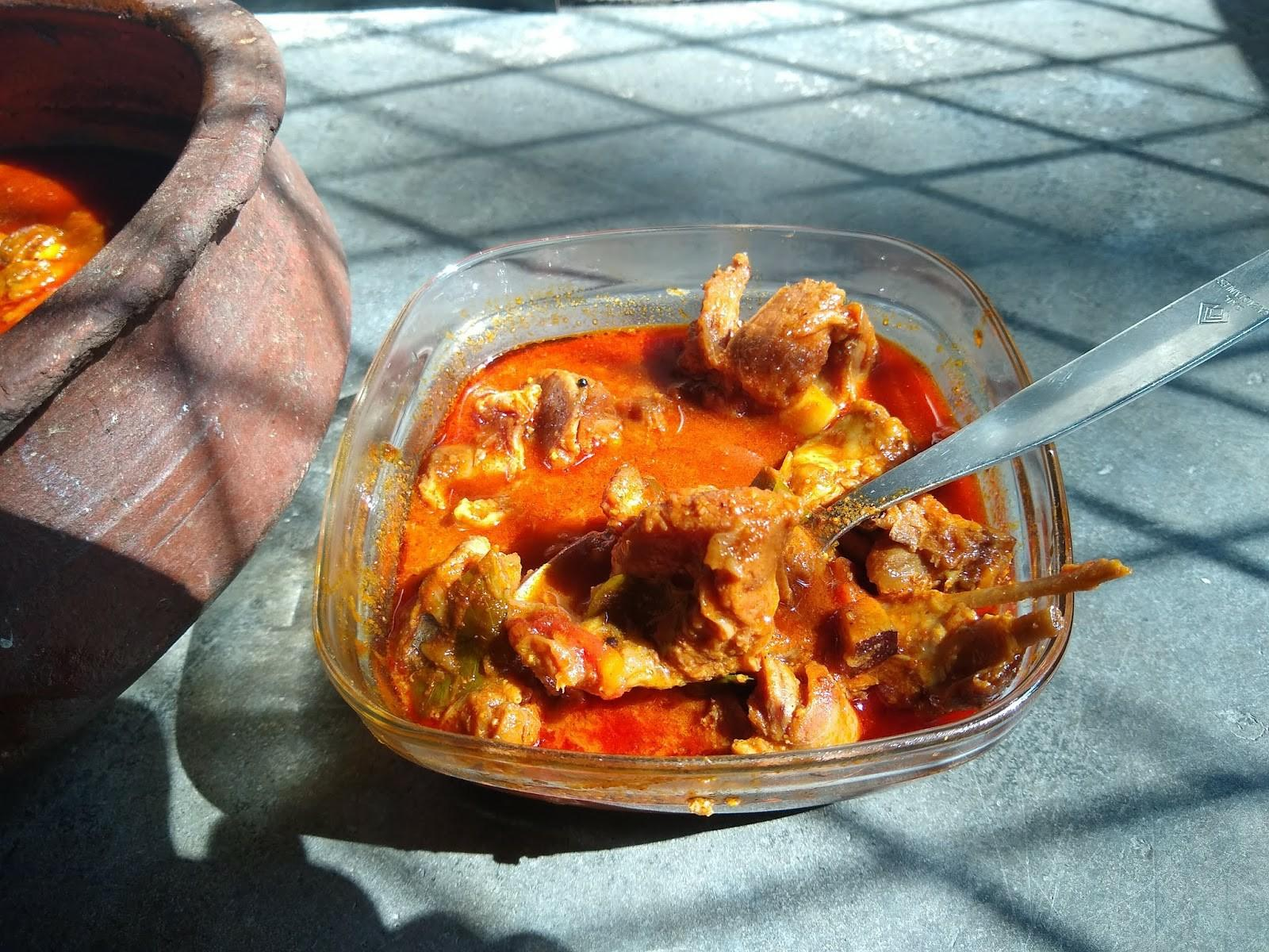MuttonCurry: (379, 248, 1124, 754)
